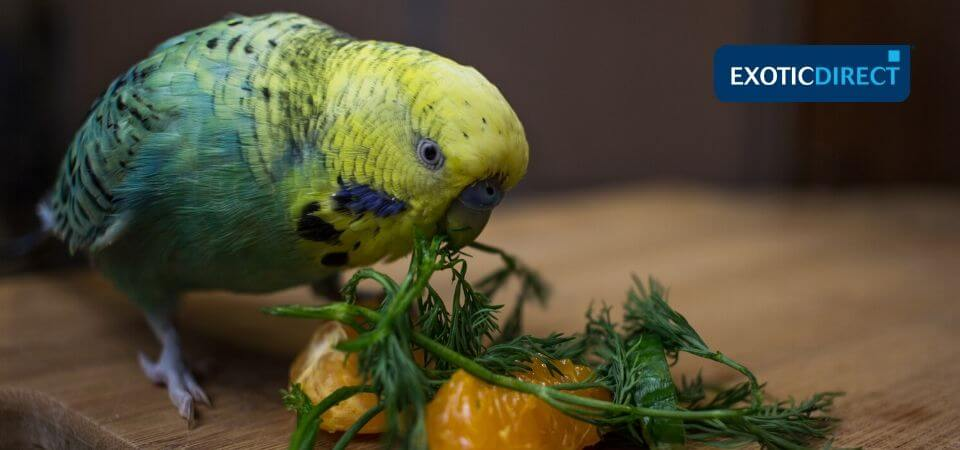budgie: (37, 9, 531, 428)
